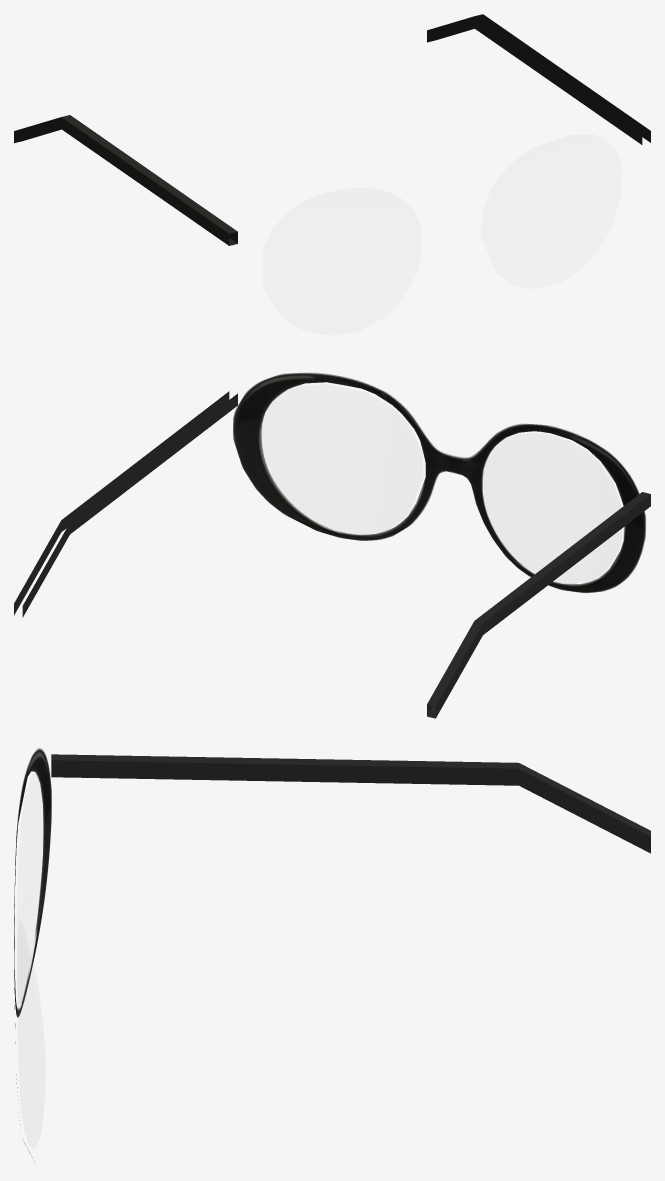
Rendered from leon-max-4110_black.glb.
3 views of the same model, one above another, from view 1: azimuth 30°, elevation 25°; view 2: azimuth 150°, elevation 25°; view 3: azimuth 270°, elevation 25° (orthographic). The views are drawn at different scales.
Parts seen in each view (by area): view 1: temple_viewer_left, temple_viewer_right; view 2: frame_front, temple_viewer_left, temple_viewer_right; view 3: temple_viewer_left, frame_front.
Boxes of the visible parts, bbox=[...] form: temple_viewer_left: bbox=[14, 115, 237, 245]; temple_viewer_right: bbox=[427, 14, 650, 144]; frame_front: bbox=[233, 372, 645, 593]; temple_viewer_left: bbox=[427, 492, 650, 718]; temple_viewer_right: bbox=[14, 391, 237, 617]; temple_viewer_left: bbox=[51, 754, 650, 853]; frame_front: bbox=[14, 748, 51, 1161].
Bounding box in the file's own units: 0.1448 × 0.0538 × 0.136.
Materials: 3 (2 with a texture image).
